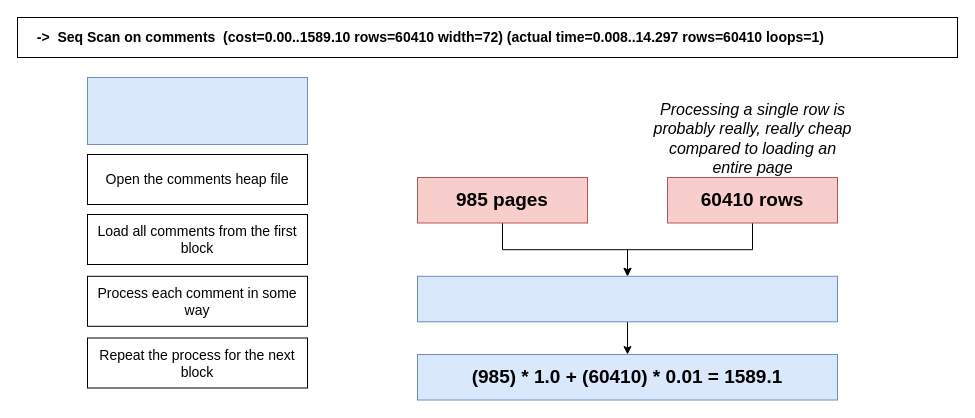
Image size: 975x418. Some labels were removed from this diagram. Each missing label, with the centre of its shape:
"(# pages) * 1.0 + (#rows) * 0.01" belongs at pixel 627 298.
"Fetch all comments" belongs at pixel 197 110.
